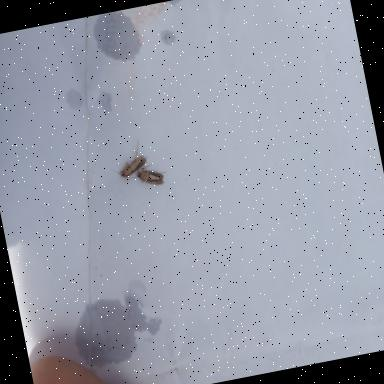pbw: (107, 138, 152, 181), (124, 162, 169, 192)
